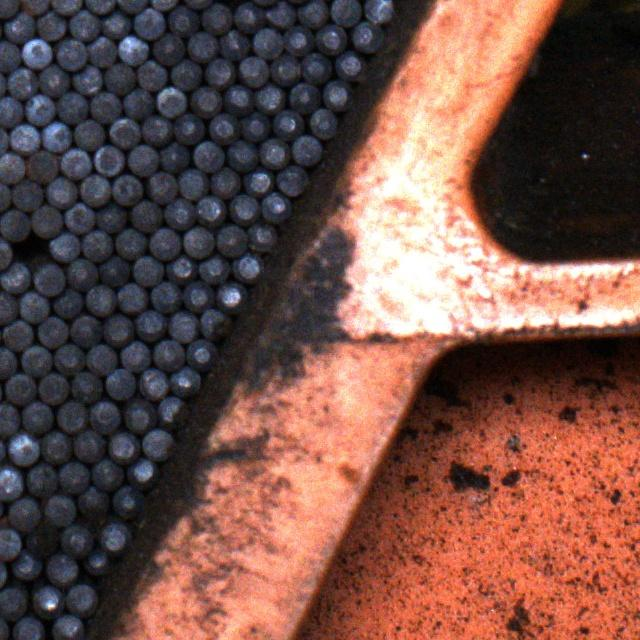tool: (100, 312, 135, 347), (8, 494, 42, 530), (213, 280, 249, 314), (130, 6, 166, 40), (41, 428, 74, 465), (43, 552, 78, 586), (122, 397, 156, 432), (57, 526, 94, 558), (6, 432, 40, 466), (156, 396, 190, 430), (20, 400, 54, 434), (230, 251, 264, 285), (350, 21, 386, 53), (64, 585, 98, 618), (54, 400, 88, 433), (214, 224, 248, 257), (42, 494, 77, 526), (108, 430, 140, 465), (2, 373, 37, 405), (58, 148, 93, 180), (165, 4, 200, 36), (198, 309, 234, 340), (112, 485, 145, 518), (142, 427, 175, 460), (80, 230, 113, 263), (145, 171, 178, 204), (334, 48, 367, 81), (32, 585, 64, 619), (98, 522, 130, 556), (56, 461, 90, 493), (35, 316, 69, 348), (69, 313, 101, 347), (150, 280, 182, 314), (32, 264, 66, 296), (182, 224, 214, 258), (192, 140, 226, 172), (102, 62, 136, 94), (136, 58, 170, 90), (169, 58, 203, 90), (67, 8, 101, 40), (152, 86, 187, 117), (314, 23, 349, 54), (92, 457, 124, 490), (70, 370, 103, 402), (138, 367, 170, 400), (185, 338, 217, 371), (116, 282, 149, 314), (66, 258, 99, 290), (44, 176, 77, 208), (78, 174, 111, 206), (148, 227, 180, 260), (163, 198, 196, 230), (228, 193, 260, 226), (260, 192, 293, 224), (242, 165, 275, 197), (275, 164, 308, 196), (127, 144, 159, 177), (226, 139, 259, 171), (108, 116, 140, 149), (140, 114, 173, 146), (89, 91, 122, 123), (253, 82, 286, 114), (238, 55, 270, 88), (218, 28, 251, 60), (1, 12, 34, 44), (0, 208, 31, 242), (31, 204, 62, 238), (247, 220, 278, 254), (26, 461, 56, 496), (88, 402, 123, 432), (8, 550, 44, 579), (73, 430, 105, 462), (26, 150, 58, 182), (56, 91, 88, 123), (112, 173, 144, 205), (238, 110, 270, 142), (272, 108, 304, 140), (300, 51, 332, 83), (201, 2, 233, 34), (135, 310, 168, 341), (50, 288, 83, 319), (197, 253, 230, 284), (177, 168, 208, 201), (189, 86, 222, 117), (51, 344, 85, 374), (163, 254, 197, 284), (130, 200, 164, 230), (151, 34, 185, 64), (76, 488, 111, 517), (127, 457, 159, 488), (87, 343, 118, 375), (152, 339, 184, 370), (18, 292, 50, 323), (84, 285, 116, 316), (0, 260, 31, 292), (49, 230, 80, 262), (41, 120, 72, 152), (24, 94, 56, 125), (38, 64, 70, 95), (208, 167, 240, 198), (222, 84, 254, 115), (322, 79, 353, 111), (71, 63, 102, 95), (204, 56, 235, 88), (251, 27, 283, 58), (120, 339, 150, 372), (1, 321, 34, 351), (10, 180, 43, 210), (7, 124, 40, 154), (157, 142, 190, 172), (115, 35, 148, 65), (33, 12, 66, 42), (172, 114, 206, 143), (51, 613, 87, 640), (105, 368, 136, 399), (7, 68, 38, 99), (114, 228, 145, 259), (196, 195, 227, 226), (122, 88, 153, 119), (186, 30, 217, 61), (168, 311, 198, 343), (183, 280, 213, 312), (99, 256, 131, 286), (288, 82, 320, 112), (233, 2, 265, 32), (289, 135, 322, 164), (0, 586, 28, 620), (272, 51, 300, 85), (295, 0, 329, 28), (38, 372, 68, 403), (21, 345, 51, 376), (64, 202, 94, 233), (93, 146, 124, 176), (73, 119, 104, 149), (209, 112, 239, 143), (307, 108, 338, 138), (56, 40, 87, 70), (265, 0, 296, 30), (168, 367, 200, 396), (102, 7, 131, 39), (95, 204, 128, 232), (133, 256, 163, 286), (259, 138, 289, 168), (22, 39, 52, 69), (284, 25, 314, 55), (11, 614, 45, 640), (87, 37, 116, 67), (331, 0, 361, 27), (0, 153, 26, 184), (0, 526, 23, 561), (363, 0, 397, 23), (82, 548, 110, 575), (0, 466, 22, 500), (0, 95, 23, 127), (0, 40, 21, 72), (0, 404, 20, 436), (0, 290, 18, 324), (0, 348, 17, 378), (83, 0, 117, 15), (50, 0, 82, 15), (18, 0, 49, 15), (0, 238, 13, 269), (117, 0, 148, 13)
tool_b: (26, 526, 56, 553)
void: (11, 234, 52, 265)
